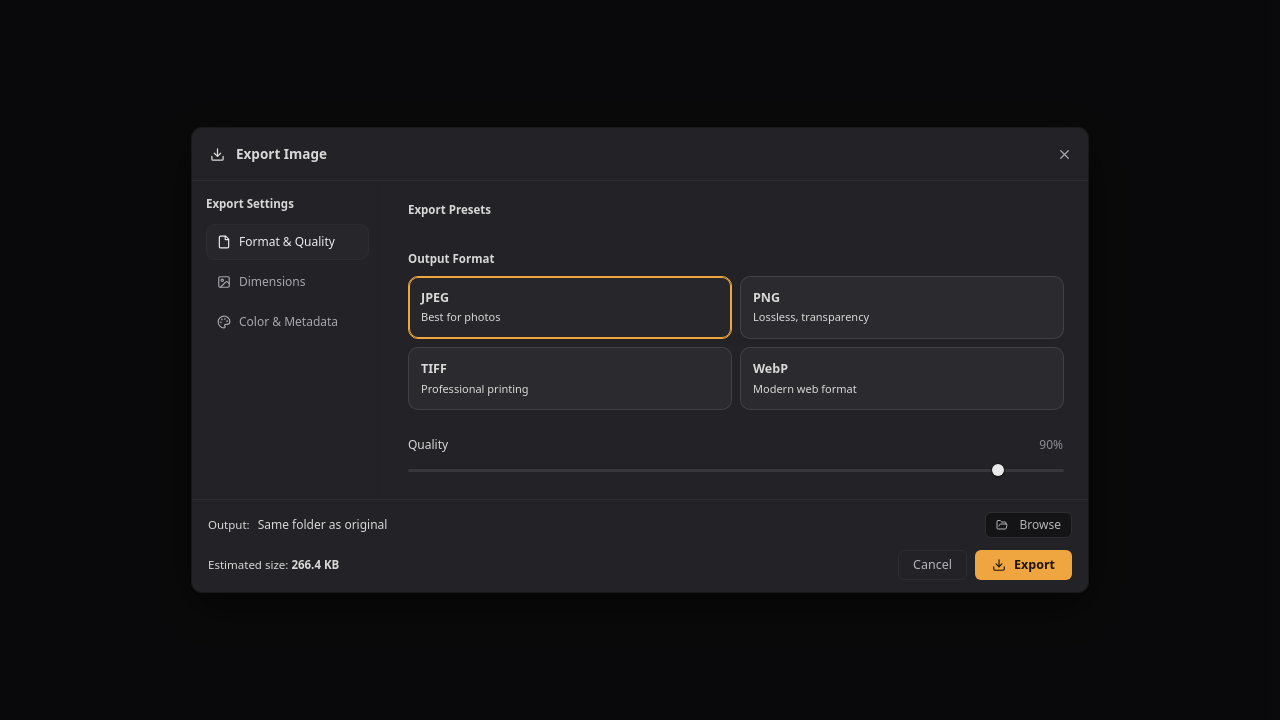
Test: ExportDialog — Resize toggle gating during the developing window › disables the Resize toggle (and explains why) while developing
Click the button "Dimensions".
click(288, 282)  # box 206,264 -> 369,300
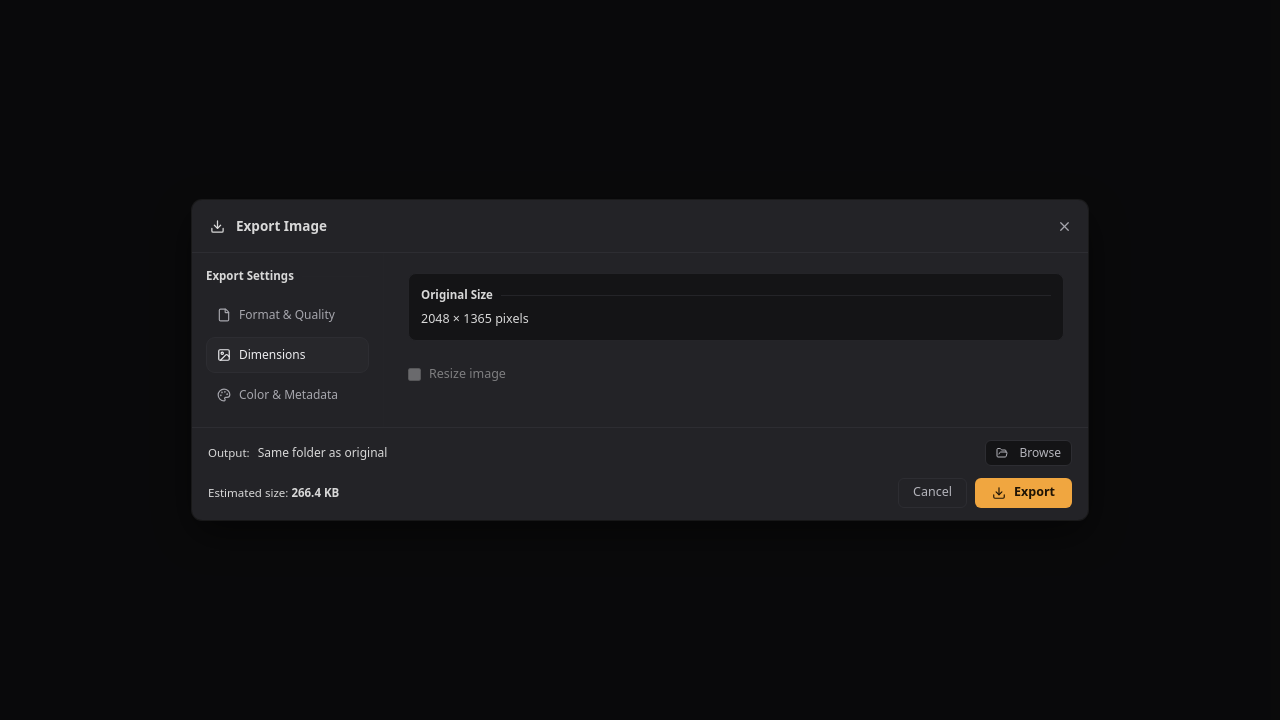
expect the checkbox labelled "Resize image" is disabled: met, box 408,368 -> 421,381
